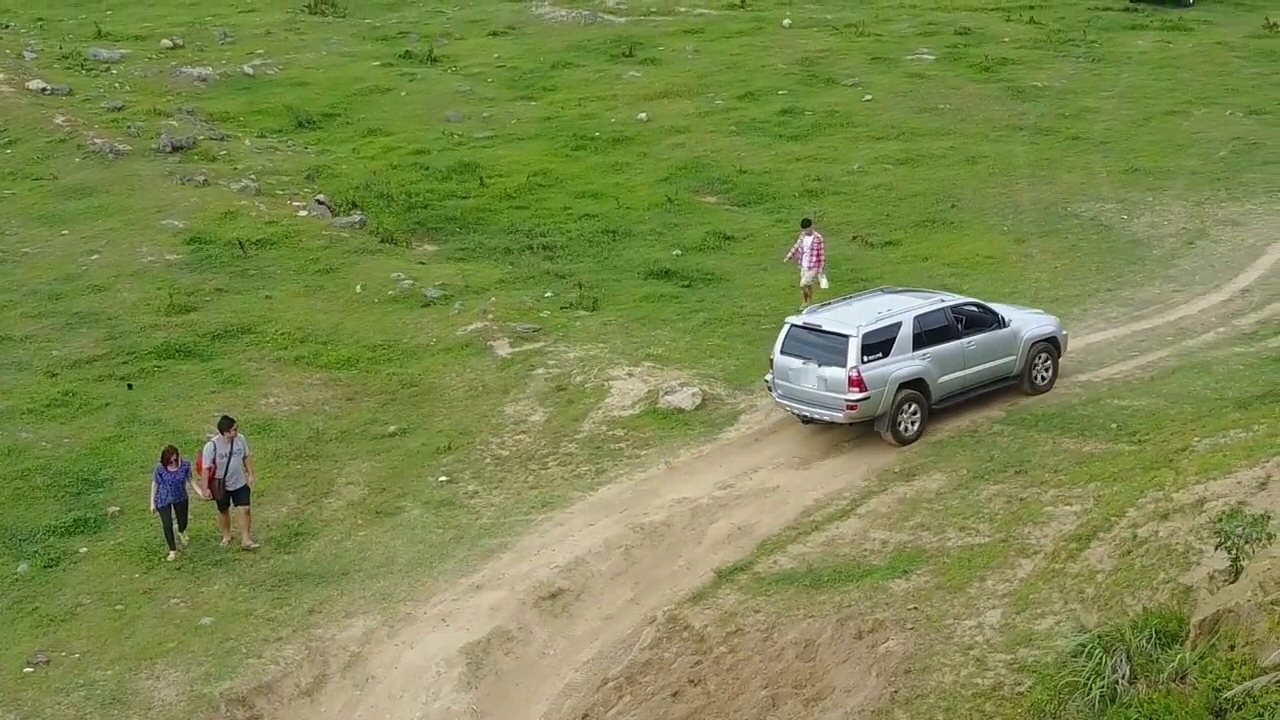araba: (767, 281, 1074, 450)
insan: (206, 408, 258, 554), (151, 446, 203, 560), (783, 216, 828, 311)
